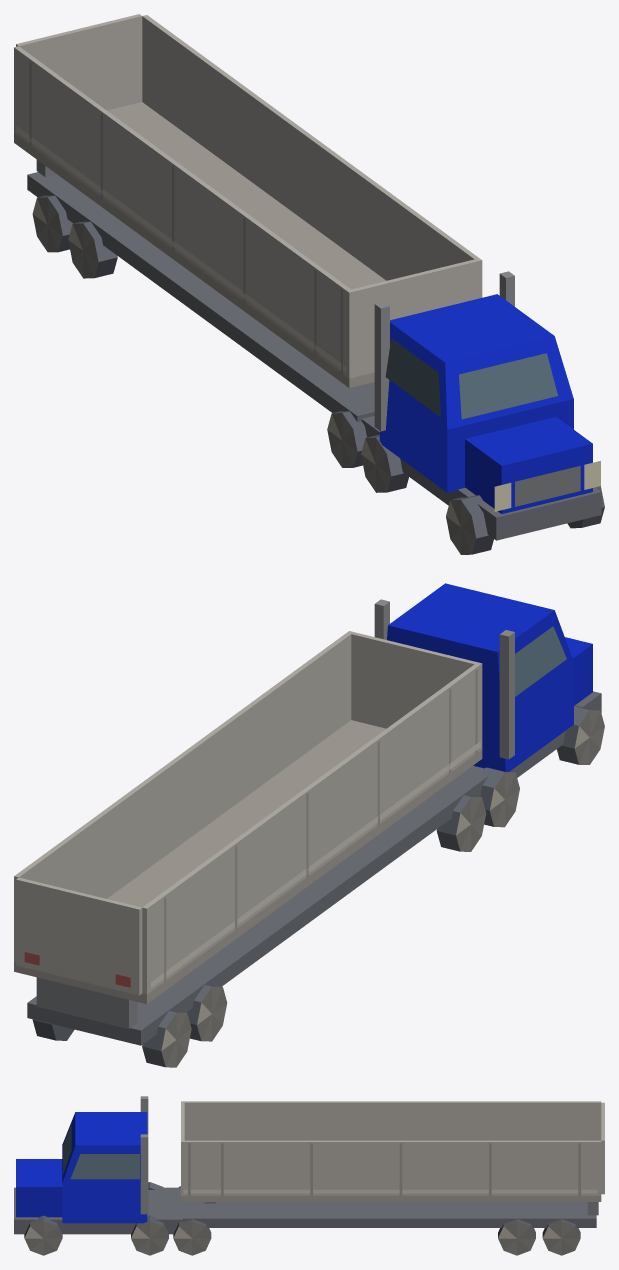
Rendered from grain_hauler_blue.glb.
3 renders of one model, top to bottom at view 1: azimuth 30°, elevation 25°; view 2: azimuth 150°, elevation 25°; view 3: azimuth 270°, elevation 25°, orthographic. The views are drawn at different scales.
Visible parts, largest first — view 1: DumpBed_Visual, Tractor, Trailer_Hitch, Tailgate_Pivot, Tire_0_L, Tire_3_L, Tire_1_L, Tire_2_L, Tire_4_L; view 2: DumpBed_Visual, Tractor, Trailer_Hitch, Tailgate_Pivot, Tire_0_L, Tire_4_L, Tire_2_L, Tire_1_L, Tire_3_L; view 3: DumpBed_Visual, Tractor, Trailer_Hitch, Tire_0_R, Tire_1_R, Tire_2_R, Tire_4_R, Tire_3_R, Tailgate_Pivot.
Part boxes in pixels (x1,y1,x2,y2): DumpBed_Visual: (14, 15, 482, 387); Tractor: (361, 271, 601, 540); Trailer_Hitch: (27, 160, 374, 421); Tailgate_Pivot: (16, 14, 142, 110); Tire_0_L: (446, 495, 493, 554); Tire_3_L: (68, 221, 117, 278); Tire_1_L: (361, 435, 408, 492); Tire_2_L: (327, 411, 366, 467); Tire_4_L: (32, 195, 72, 252); DumpBed_Visual: (14, 631, 482, 1003); Tractor: (374, 583, 601, 796); Trailer_Hitch: (27, 783, 470, 1045); Tailgate_Pivot: (16, 877, 142, 995); Tire_0_L: (556, 705, 604, 764); Tire_4_L: (142, 1010, 191, 1067); Tire_2_L: (436, 794, 486, 851); Tire_1_L: (480, 767, 519, 827); Tire_3_L: (187, 984, 227, 1041); DumpBed_Visual: (181, 1101, 601, 1201); Tractor: (14, 1096, 182, 1234); Trailer_Hitch: (183, 1202, 598, 1227); Tire_0_R: (24, 1215, 62, 1255); Tire_1_R: (131, 1215, 168, 1255); Tire_2_R: (173, 1219, 211, 1255); Tire_4_R: (542, 1219, 580, 1255); Tire_3_R: (498, 1219, 535, 1255); Tailgate_Pivot: (601, 1102, 604, 1194).
Size of the model in its own units: 2.51 by 3.39 by 15.21.
